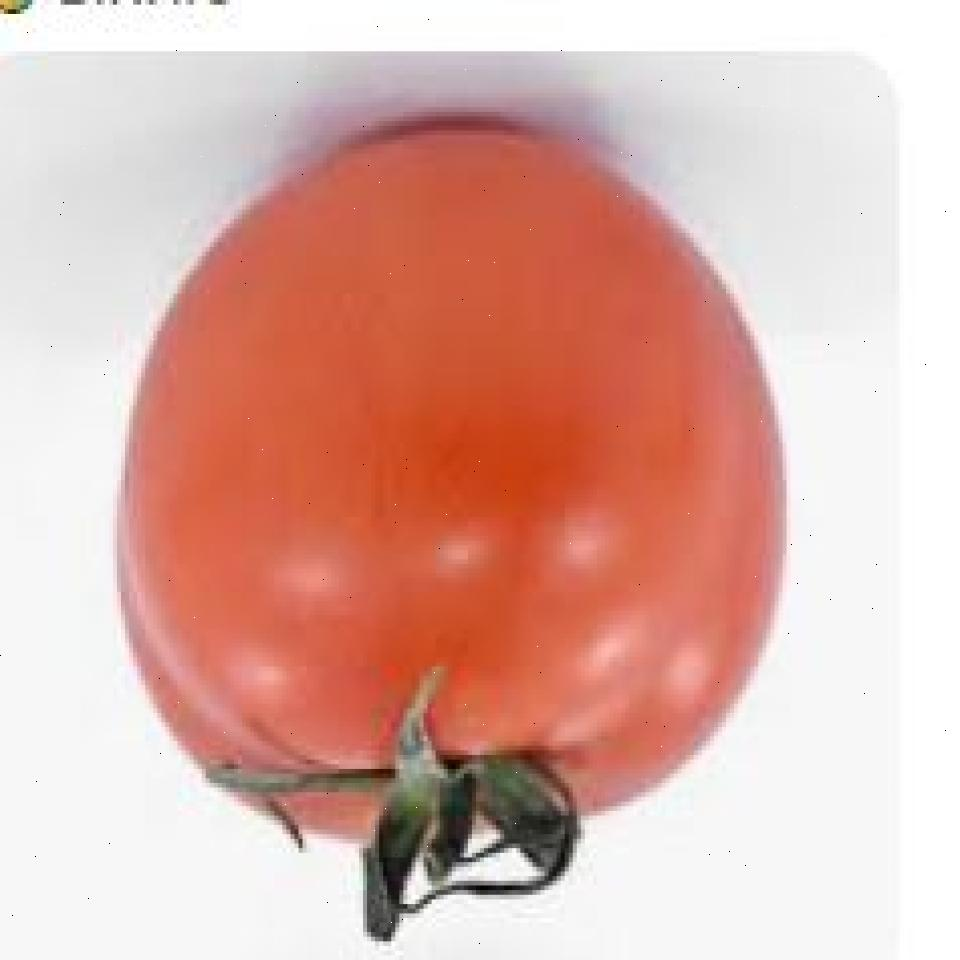Healthy: (135, 109, 789, 882)
